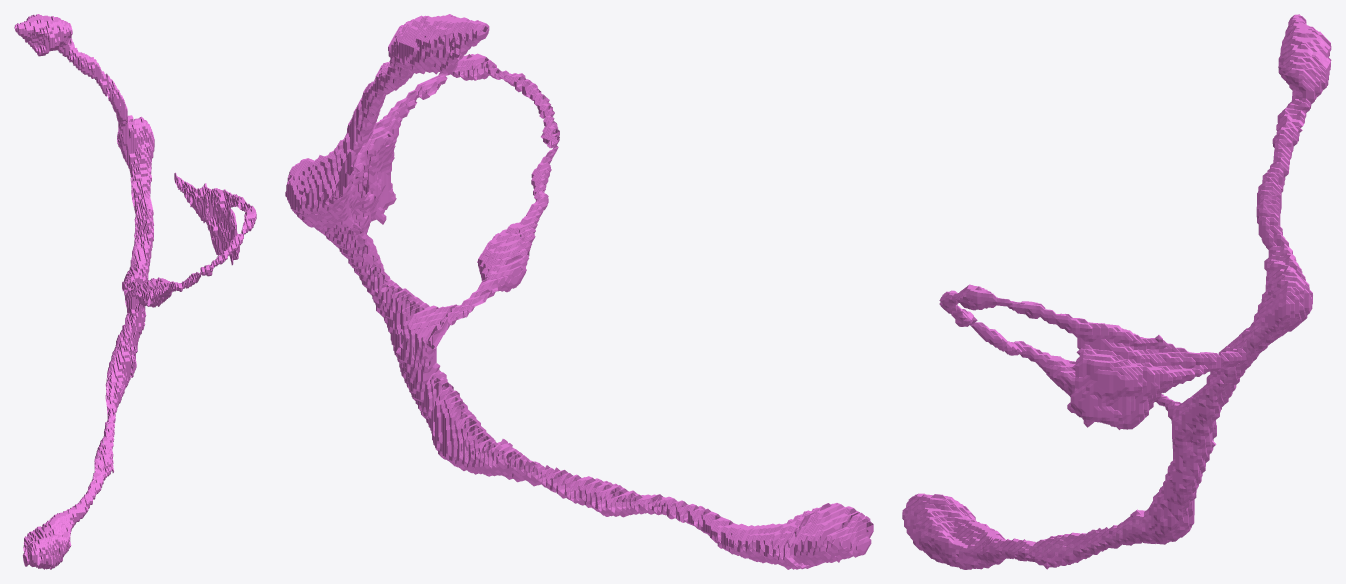
Rendered from SVV_OLLR.gltf.
3 views of the same model, side by side, from view 1: azimuth 30°, elevation 25°; view 2: azimuth 150°, elevation 25°; view 3: azimuth 270°, elevation 25° (orthographic). The views are drawn at different scales.
Parts seen in each view (by area): view 1: OLLR; view 2: OLLR; view 3: OLLR.
Boxes of the visible parts, x1=… form: OLLR: x1=14, y1=14, x2=256, y2=569; OLLR: x1=285, y1=14, x2=873, y2=569; OLLR: x1=902, y1=14, x2=1331, y2=569.
Bounding box in the file's own units: 73868 × 109491 × 70123.
